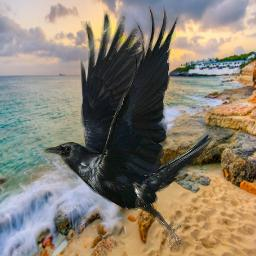Crow: (42, 3, 213, 250)
